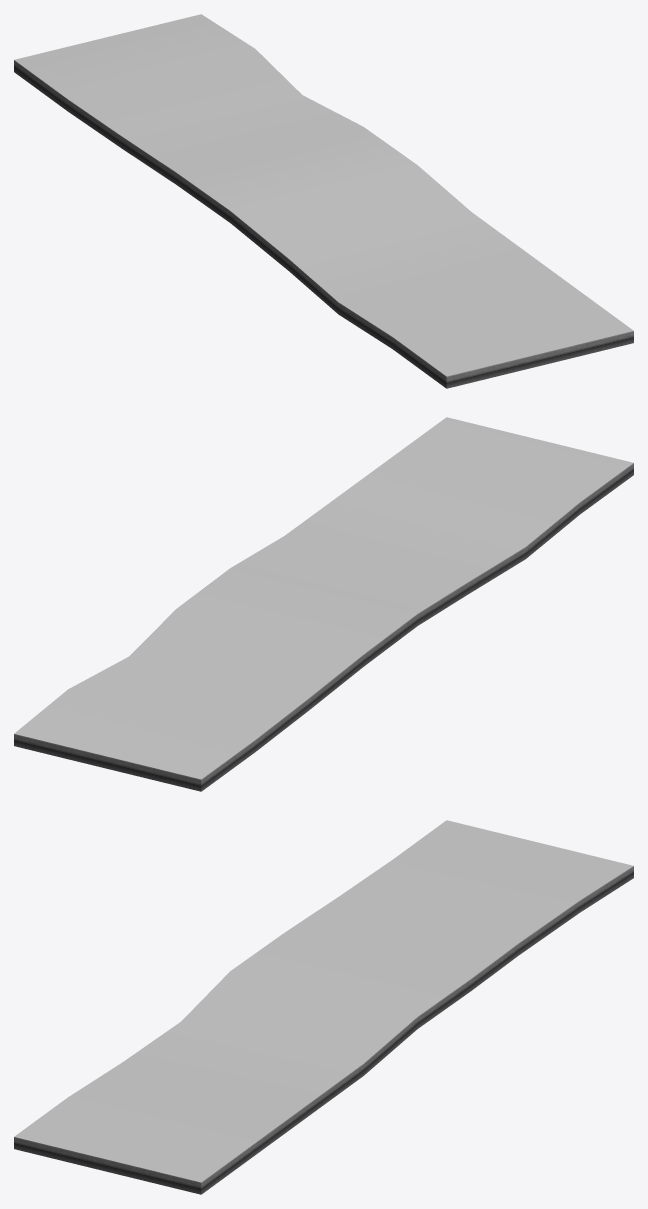
The model's file is StrUneven.fbx.
The picture shows the model from 3 angles, top to bottom: view 1: azimuth 30°, elevation 25°; view 2: azimuth 150°, elevation 25°; view 3: azimuth 330°, elevation 25°; orthographic projection.
Parts seen in each view (by area): view 1: Empty_Mesh; view 2: Empty_Mesh; view 3: Empty_Mesh.
Part boxes in pixels (bbox=[...]): Empty_Mesh: bbox=[14, 14, 633, 388]; Empty_Mesh: bbox=[14, 417, 633, 791]; Empty_Mesh: bbox=[14, 820, 633, 1194].
Bounding box in the file's own units: 1600 × 200 × 6400.
